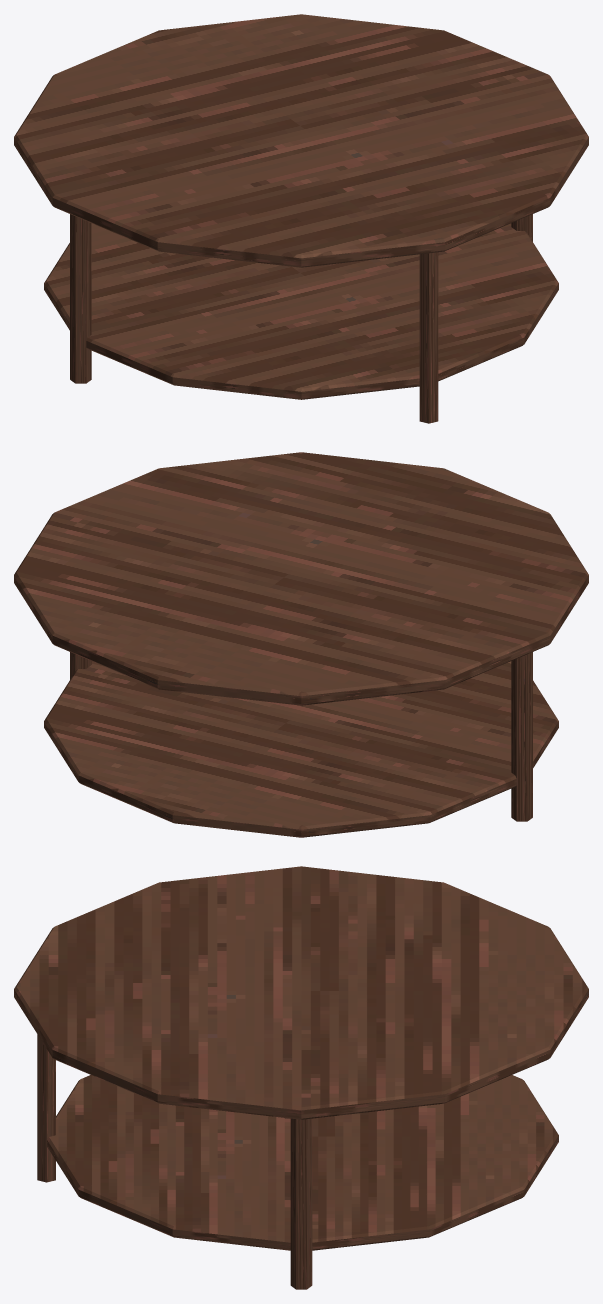
Rendered from coffee table_final.fbx.
The picture shows the model from 3 angles, top to bottom: view 1: azimuth 30°, elevation 25°; view 2: azimuth 150°, elevation 25°; view 3: azimuth 270°, elevation 25°; orthographic projection.
Parts seen in each view (by area): view 1: RoundedCoffeTable1; view 2: RoundedCoffeTable1; view 3: RoundedCoffeTable1.
Part boxes in pixels (x1,y1,x2,y2): RoundedCoffeTable1: (14, 14, 588, 423); RoundedCoffeTable1: (14, 452, 588, 837); RoundedCoffeTable1: (14, 866, 588, 1289).
Size of the model in its own units: 164 by 60.13 by 164.
